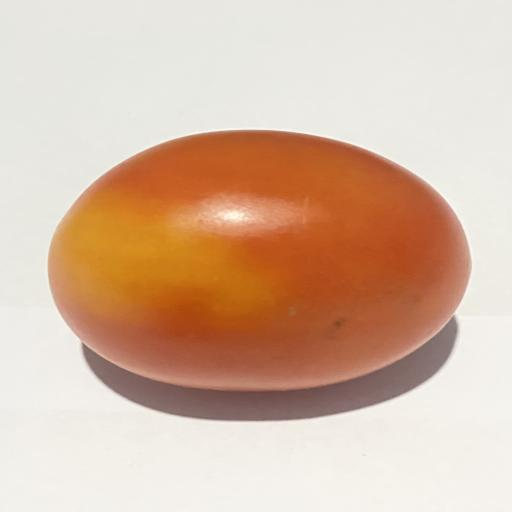ripe: (48, 130, 470, 391)
